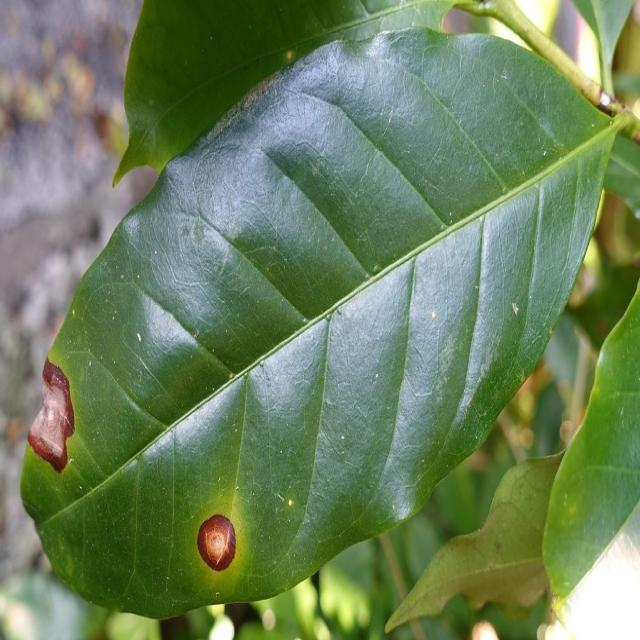Enfermedad-Mancha-de-hierro: (19, 27, 619, 623)
